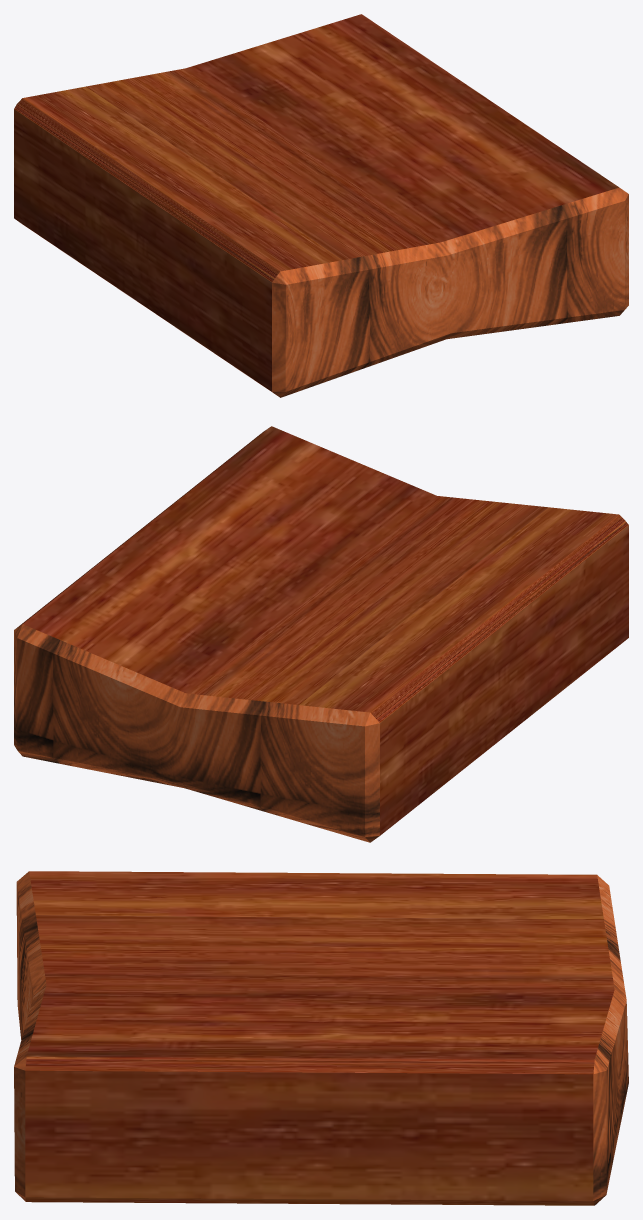
The model's file is yuandeng_D_saizi_03.FBX.
3 renders of one model, top to bottom at view 1: azimuth 30°, elevation 25°; view 2: azimuth 150°, elevation 25°; view 3: azimuth 270°, elevation 25°, orthographic. The views are drawn at different scales.
Parts seen in each view (by area): view 1: yuandeng_D_saizi_03; view 2: yuandeng_D_saizi_03; view 3: yuandeng_D_saizi_03.
Boxes of the visible parts, x1=… form: yuandeng_D_saizi_03: x1=14, y1=14, x2=628, y2=397; yuandeng_D_saizi_03: x1=14, y1=426, x2=628, y2=842; yuandeng_D_saizi_03: x1=14, y1=871, x2=628, y2=1205.
Size of the model in its own units: 2.43 by 0.8667 by 3.12.
Materials: 2 (2 with a texture image).
